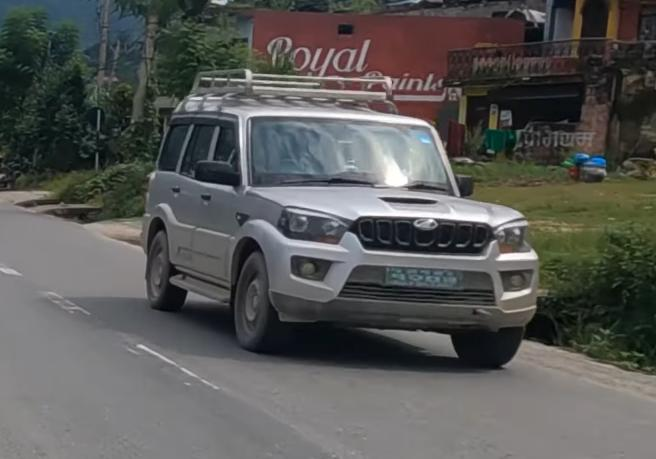SUV: (136, 66, 541, 375)
